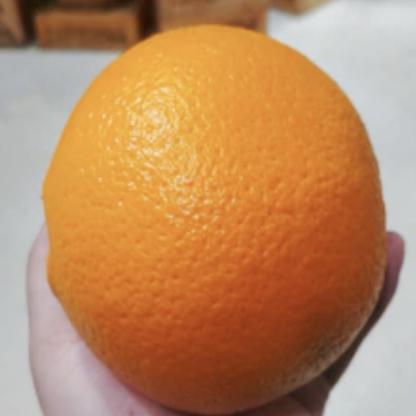fresh: (42, 22, 388, 414)
